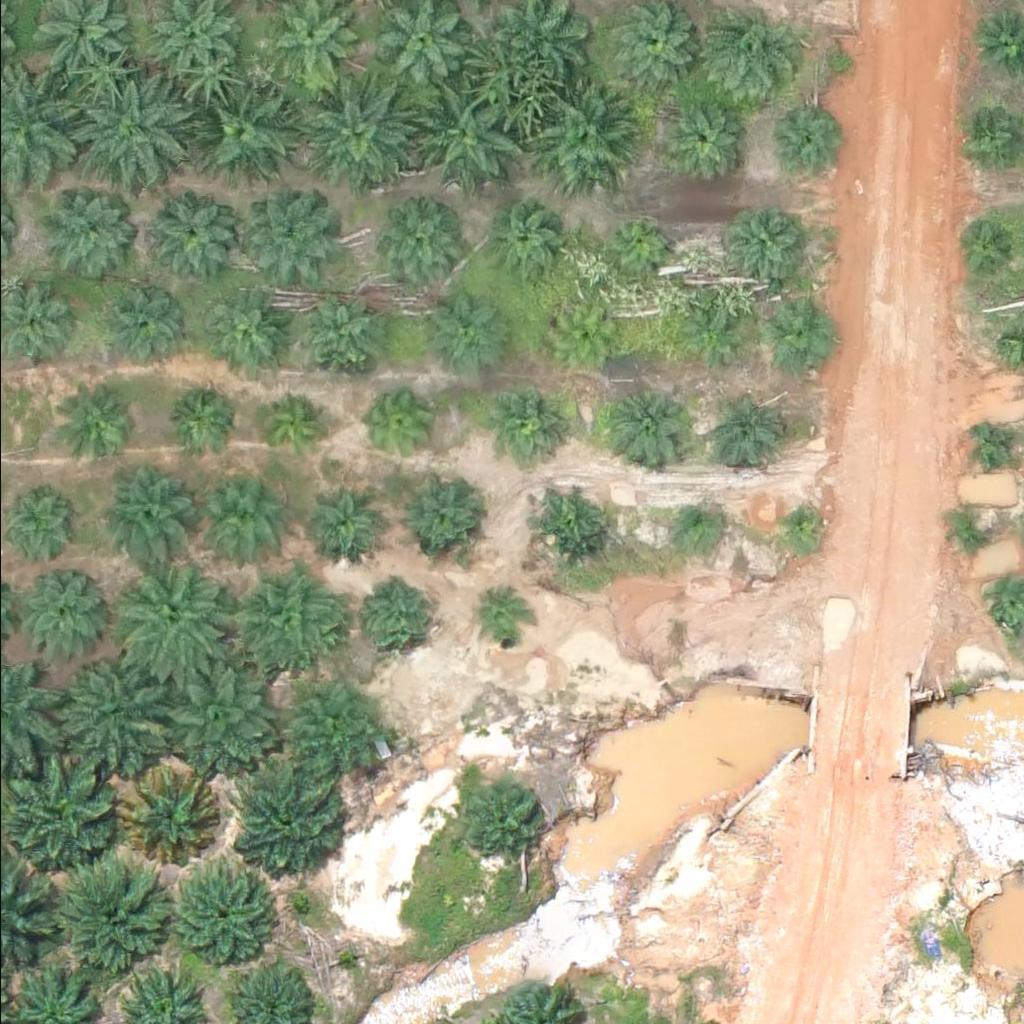Kelapa_Sawit: (113, 555, 239, 680), (228, 758, 354, 883), (47, 655, 173, 780), (52, 854, 178, 979), (149, 647, 274, 772), (294, 80, 407, 193), (112, 760, 225, 873), (74, 72, 188, 184), (277, 672, 391, 784), (161, 861, 275, 973), (226, 562, 339, 674), (13, 569, 114, 669), (407, 89, 508, 189), (195, 80, 296, 180), (183, 461, 283, 561), (531, 83, 631, 183), (695, 5, 795, 105), (390, 475, 478, 563), (197, 287, 285, 375), (240, 193, 328, 281), (151, 190, 239, 278), (370, 199, 459, 286), (606, 3, 695, 90), (293, 479, 381, 566), (451, 777, 539, 864), (105, 470, 193, 557), (289, 286, 377, 373), (95, 278, 183, 365), (40, 184, 128, 271), (718, 202, 806, 289), (661, 97, 749, 184), (708, 392, 784, 467), (763, 102, 839, 177), (527, 483, 603, 558), (52, 386, 128, 461), (163, 381, 239, 456), (251, 387, 327, 462), (364, 585, 440, 660), (611, 392, 687, 467), (485, 200, 560, 275), (421, 297, 496, 372), (494, 384, 569, 459), (361, 390, 436, 465), (952, 216, 1015, 279), (771, 305, 834, 368), (549, 301, 612, 364), (675, 311, 738, 373), (468, 590, 531, 652), (610, 210, 672, 272), (967, 423, 1018, 473), (946, 509, 997, 559), (773, 502, 823, 552), (666, 498, 716, 548)
